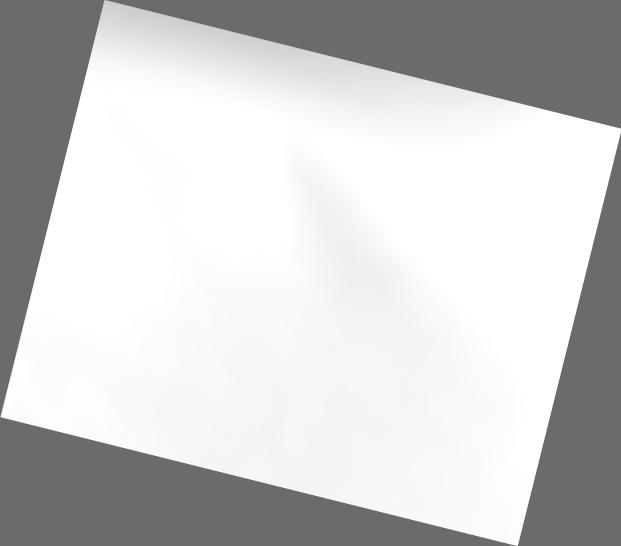dent: (1, 0, 621, 545)
